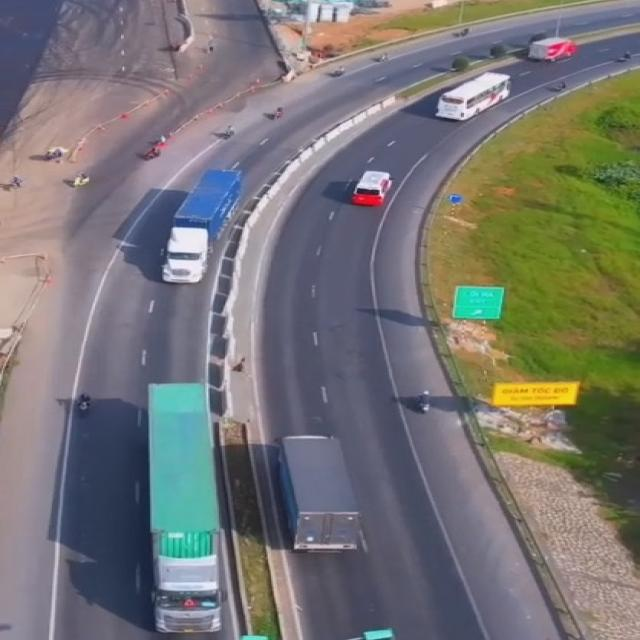bus: (434, 70, 514, 122), (351, 171, 391, 212)
motorbike: (75, 392, 96, 416), (418, 389, 434, 414)
truck: (143, 382, 227, 636), (276, 432, 363, 554), (164, 166, 245, 287), (529, 34, 576, 64)
